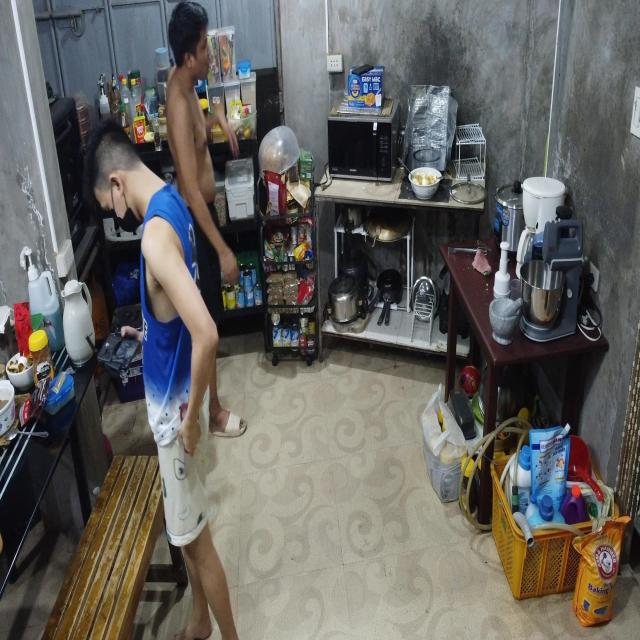scissor: (179, 399, 199, 476)
